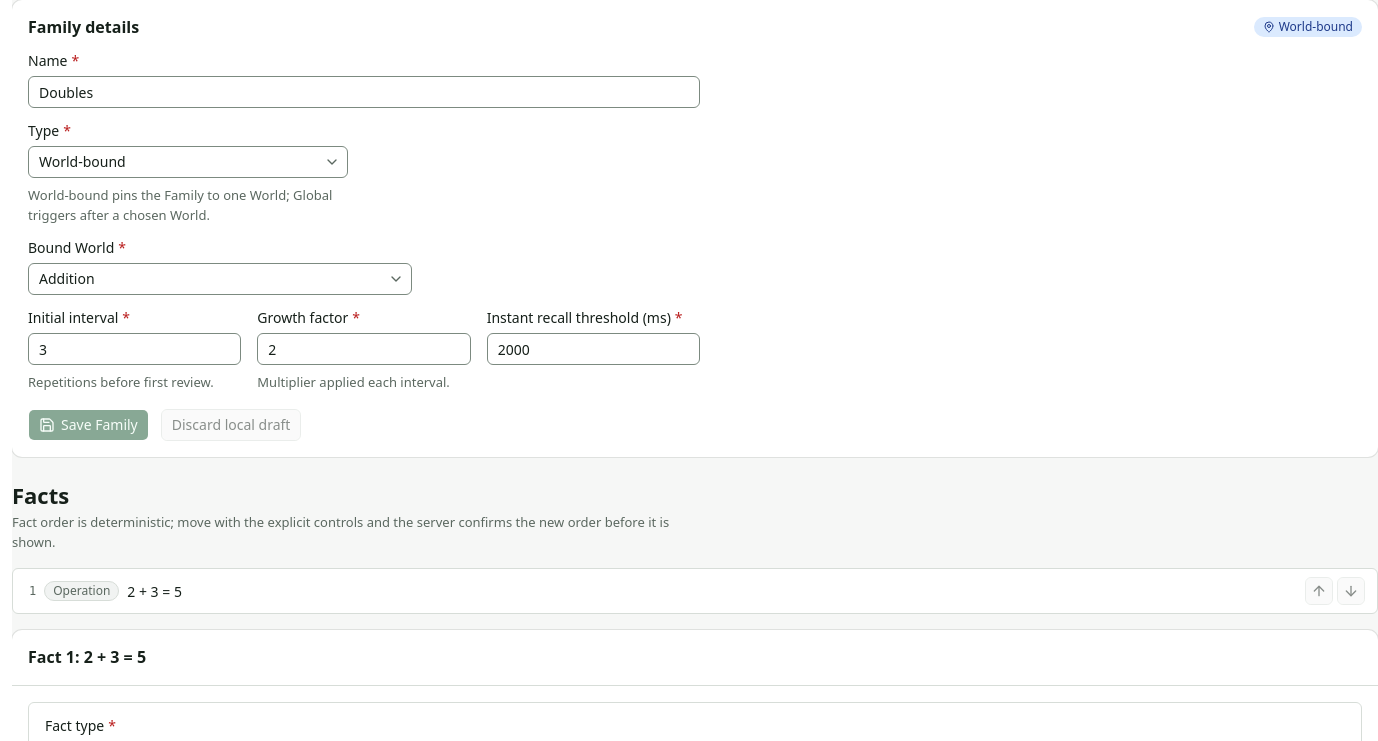
Test: FamilyEditor › shows a server invariant error inline and preserves the draft
Replace the text in the field labelled "Name" with "Renamed" at (364,92), box x1=28 y1=76 x2=700 y2=108
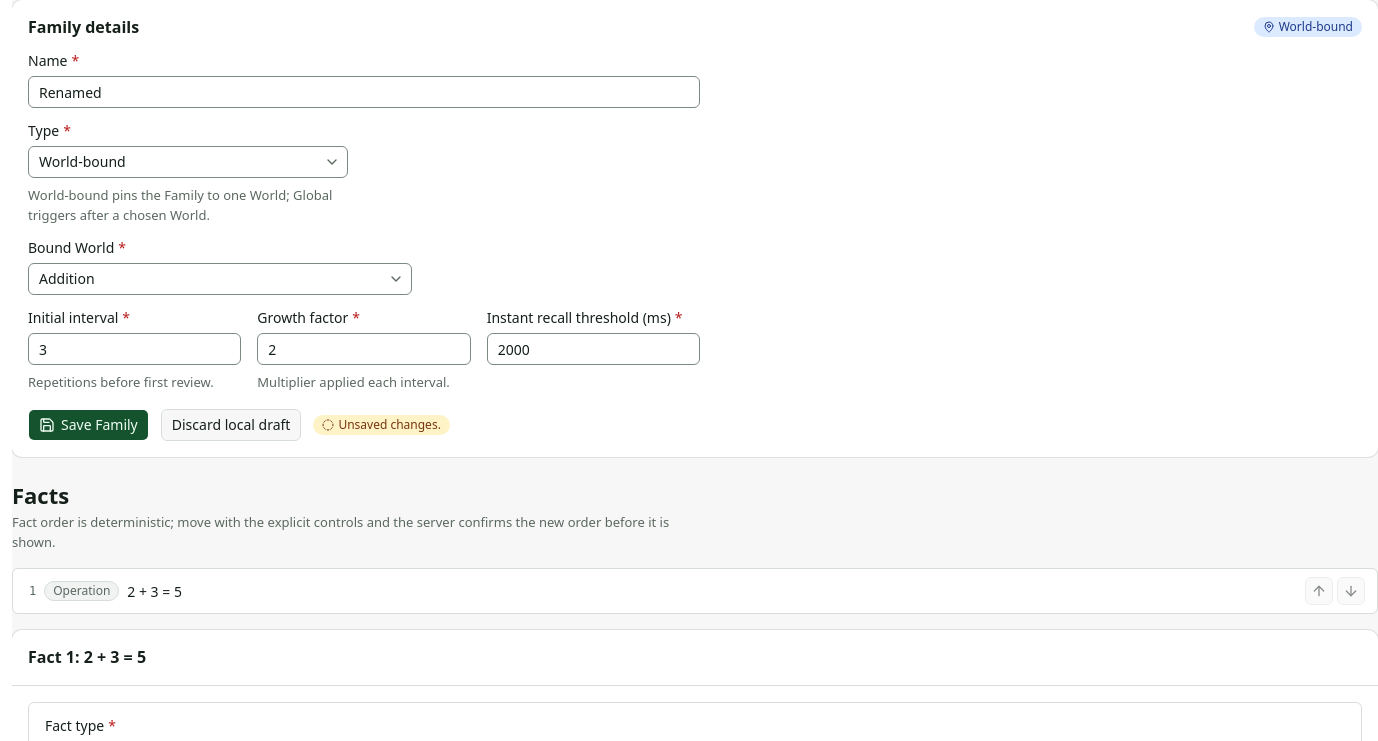
Click the button "Save Family" at (88,425), box x1=28 y1=409 x2=149 y2=441
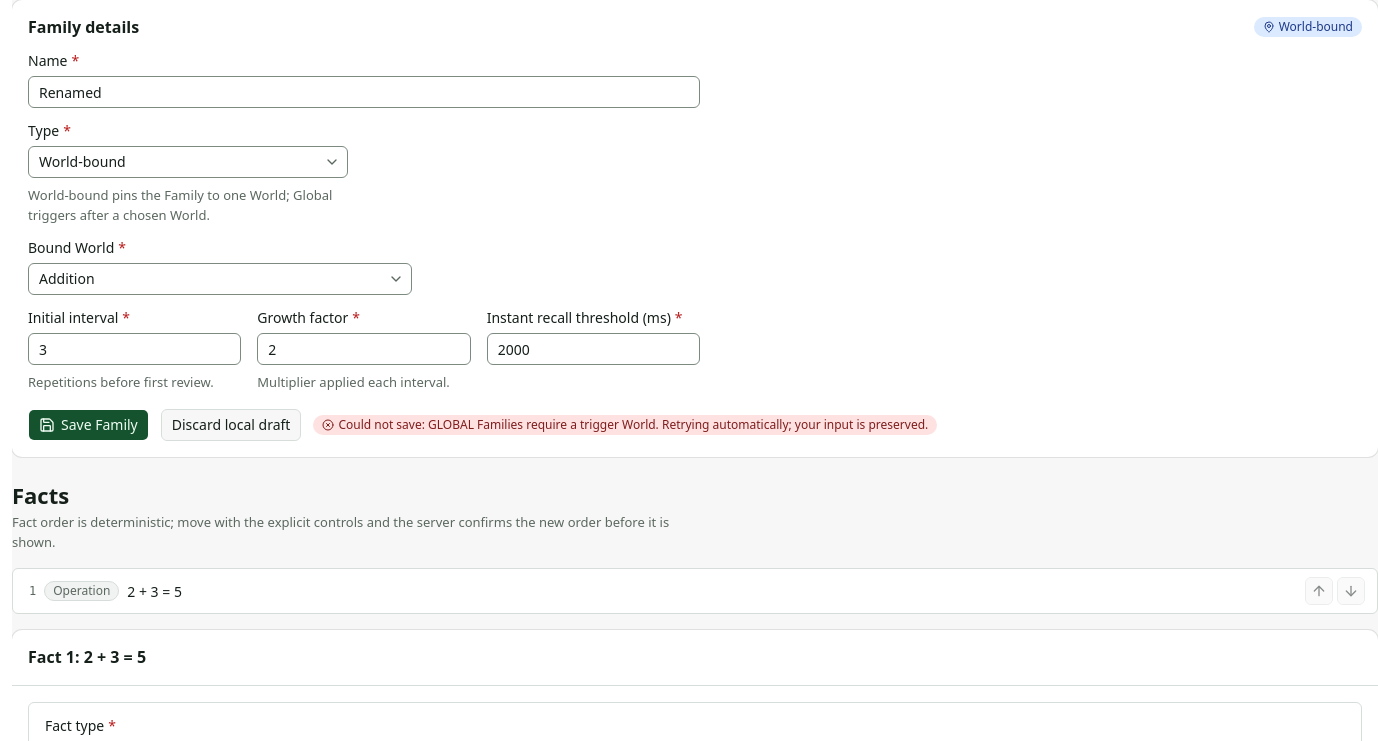
Result: the message shows "GLOBAL Families require a trigger World" at x1=338 y1=416 x2=928 y2=433
